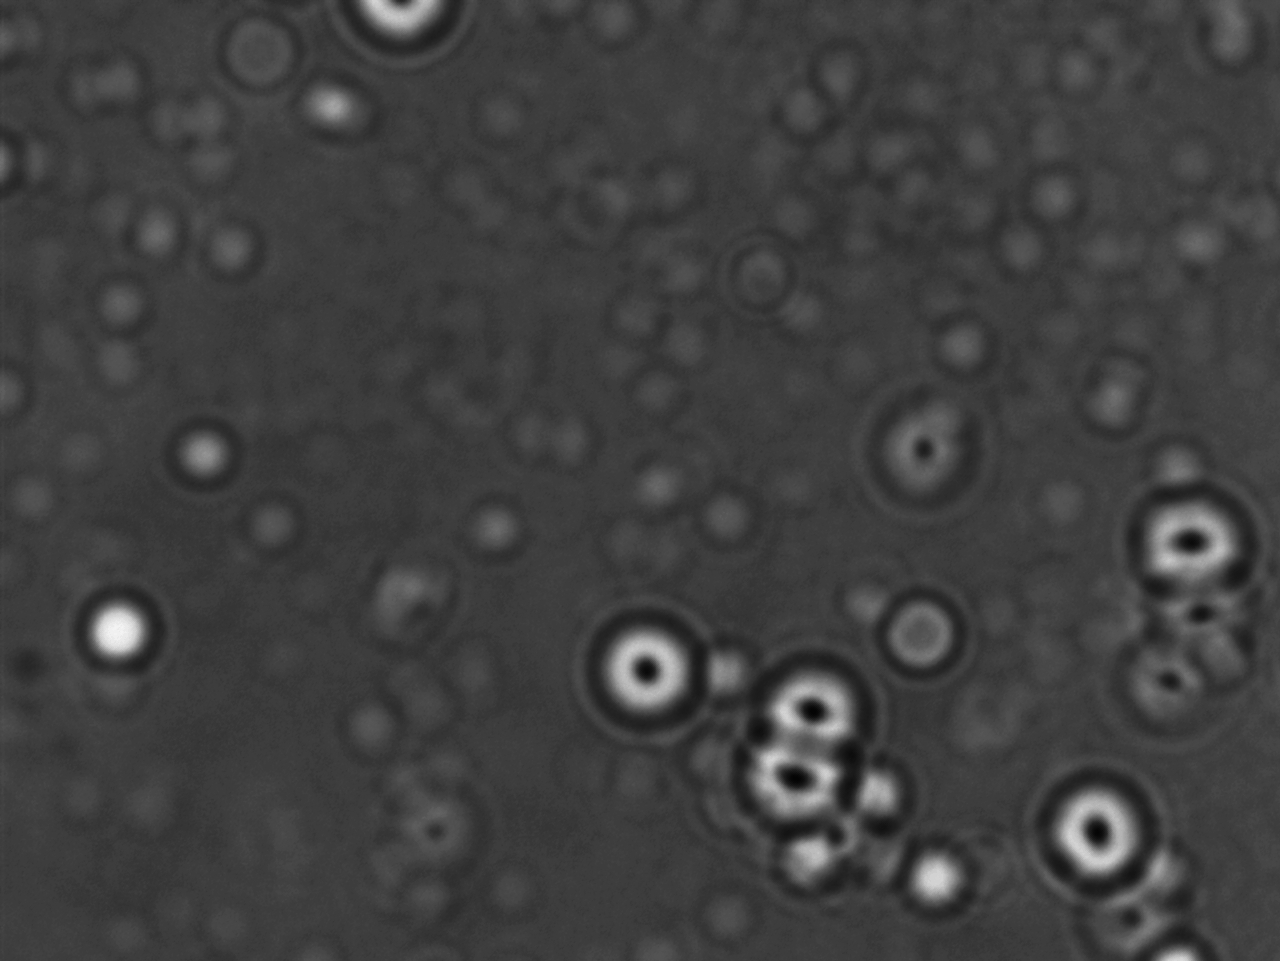depth:24: (570, 592, 725, 740), (1021, 758, 1172, 888), (739, 632, 880, 757), (1126, 475, 1257, 607), (736, 717, 871, 833)
